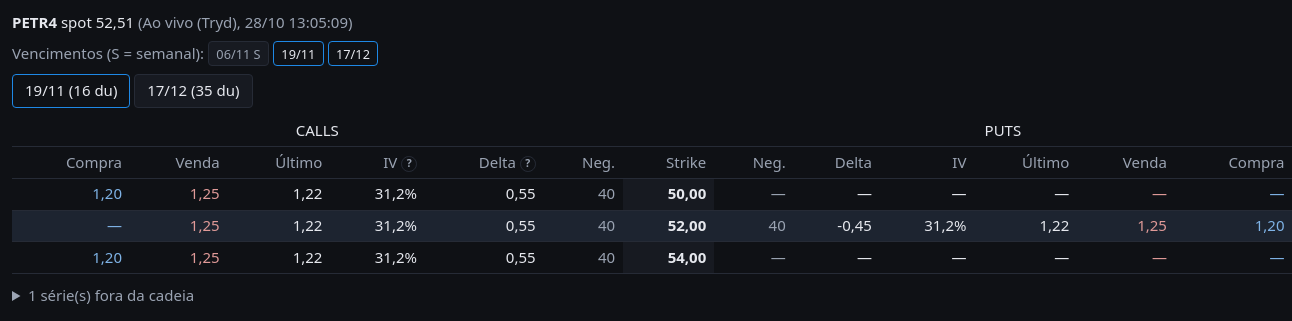
Test: abas por vencimento com os dias úteis
This screenshot has width=1292, height=321.
Expected: the tab "19/11 (16 du)" is shown, [12,74,130,108]
Click the tab "17/12 (35 du)": x=193, y=91 [134,74,252,108]
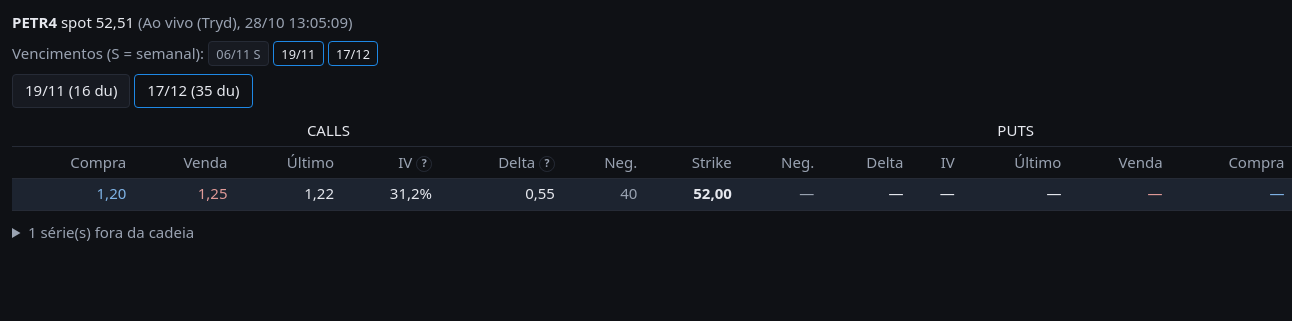
Expected: the text "54,00" is gone
